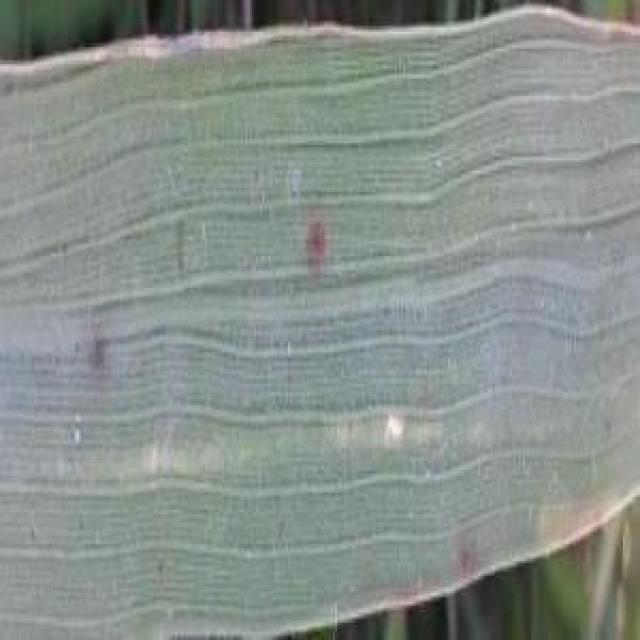Brown_Spot: (289, 220, 361, 294), (64, 330, 129, 375)
